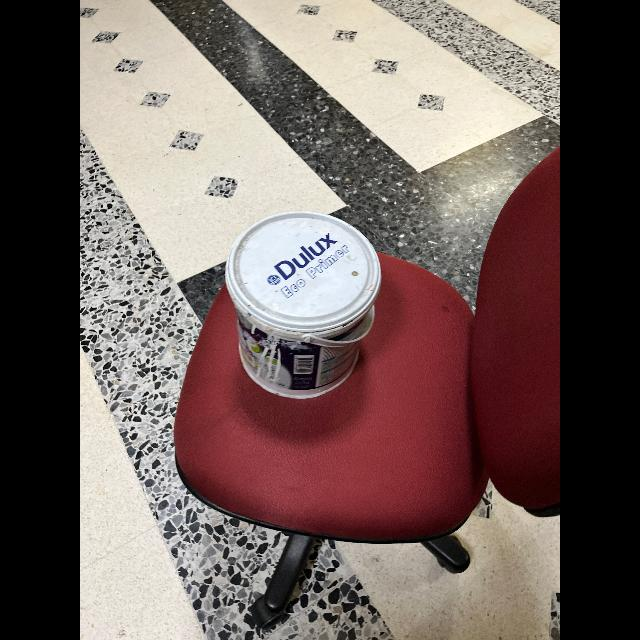paint_bucket: (228, 211, 380, 403)
